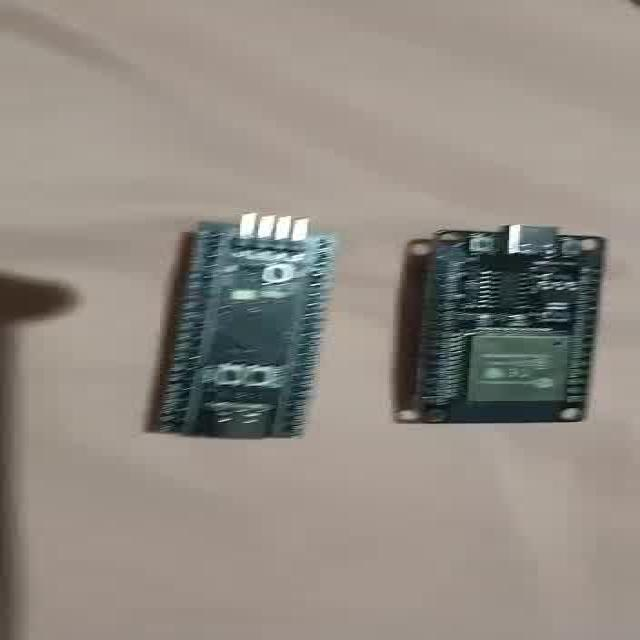ESP32: (418, 226, 605, 423)
STM32: (148, 214, 336, 439)
